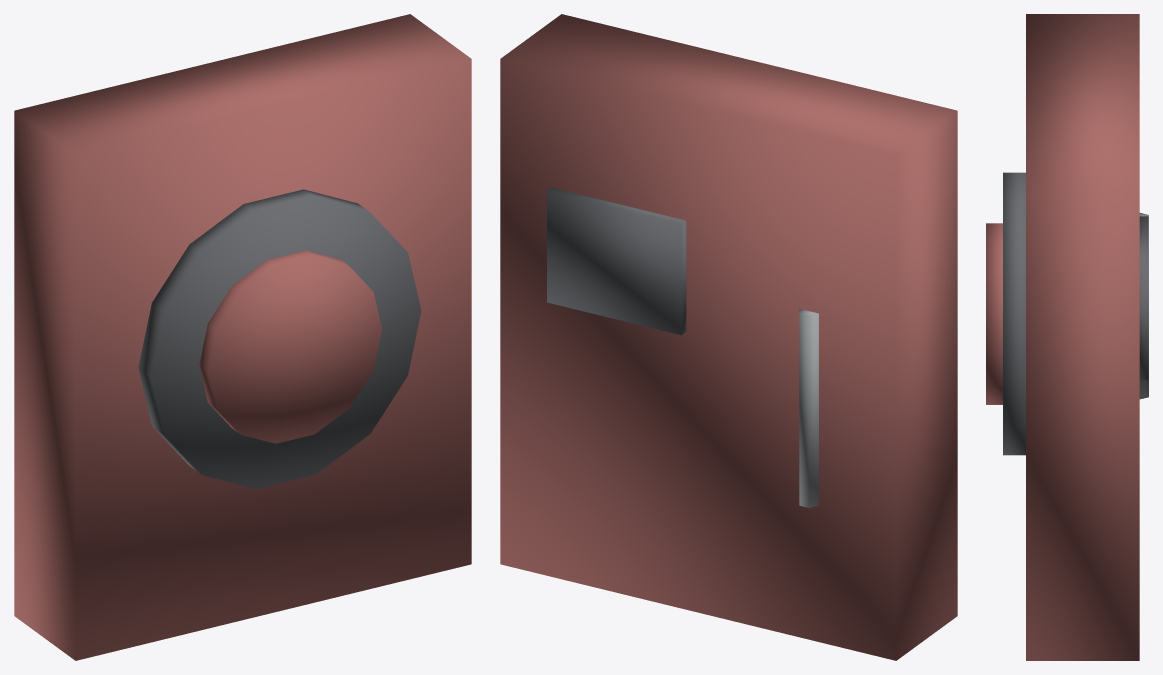
The model's file is fire_hose_rack__service.glb.
The picture shows the model from 3 angles, left to right: view 1: azimuth 30°, elevation 25°; view 2: azimuth 150°, elevation 25°; view 3: azimuth 270°, elevation 25°; orthographic projection. The views are drawn at different scales.
Parts seen in each view (by area): view 1: world; view 2: world; view 3: world.
Boxes of the visible parts, left/top/right/bottom form: world: left=14, top=14, right=471, bottom=660; world: left=500, top=14, right=957, bottom=660; world: left=986, top=14, right=1148, bottom=660.
Bounding box in the file's own units: 0.82 × 1 × 0.3153.
